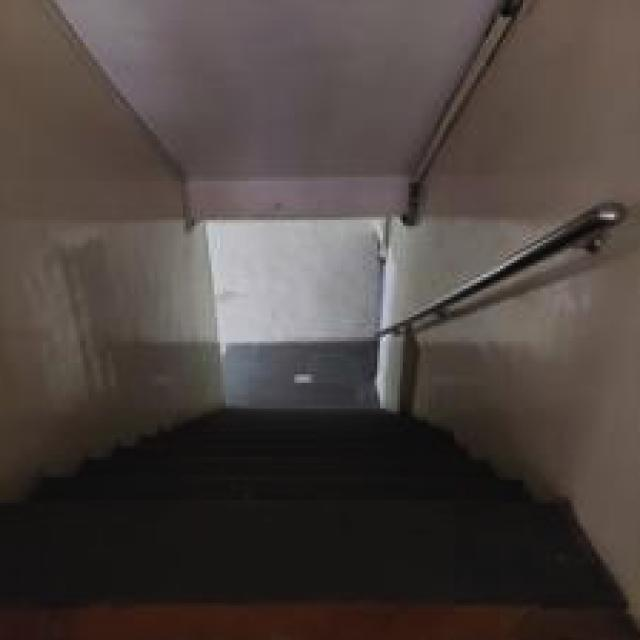downstair: (107, 375, 484, 567)
